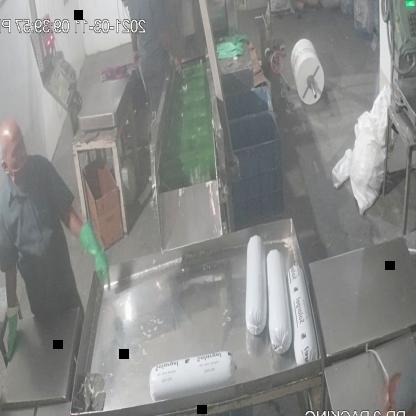glove: (76, 210, 115, 299), (0, 290, 26, 370)
